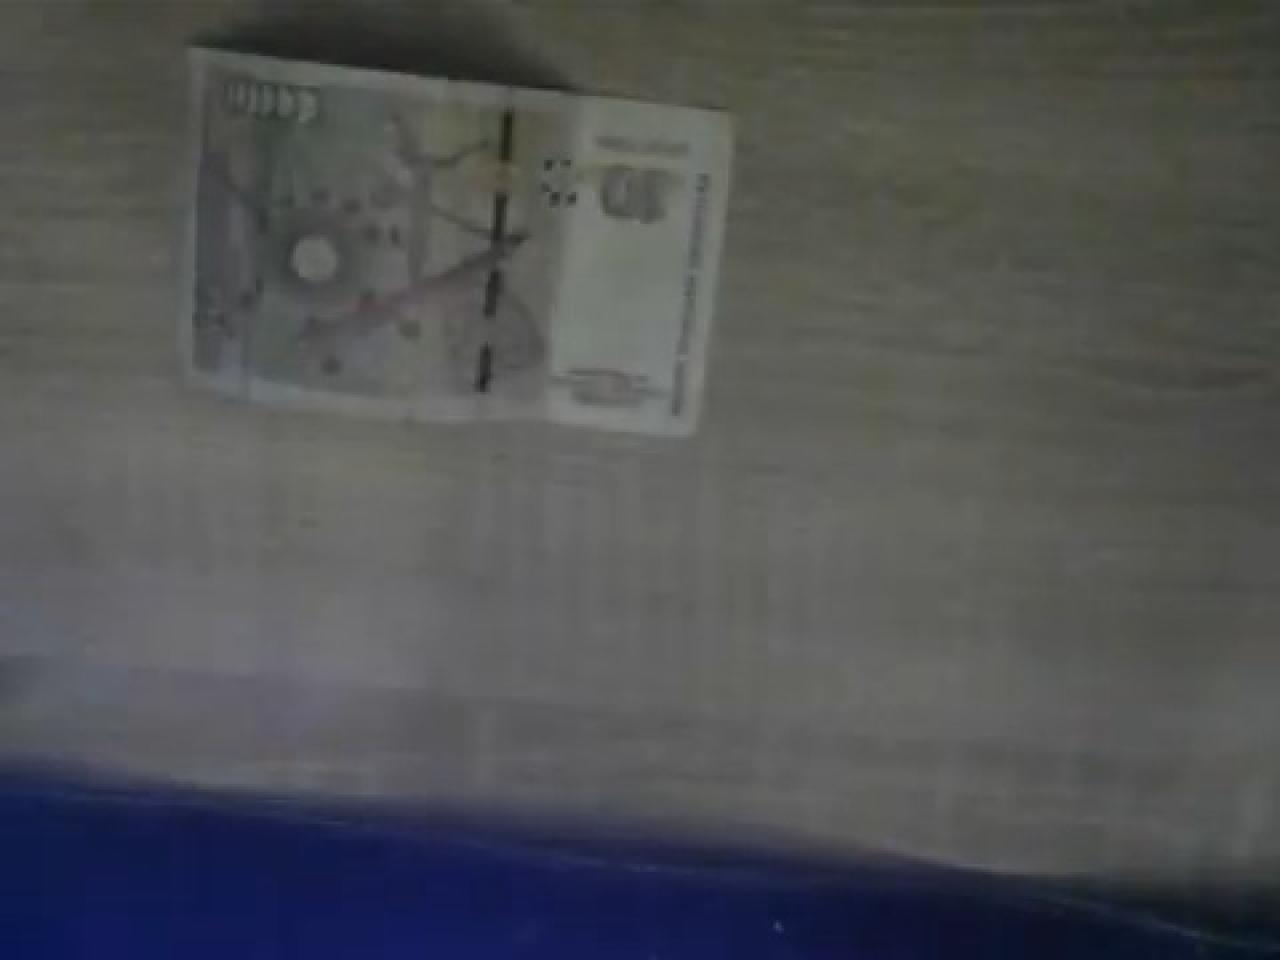10leva: (173, 37, 739, 438)
